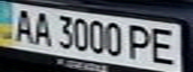0: (103, 19, 127, 57), (69, 16, 90, 52), (87, 18, 106, 55)
3: (51, 12, 75, 51)
A: (9, 6, 39, 44), (30, 9, 54, 47)
E: (145, 25, 184, 68)
P: (124, 21, 157, 61)
